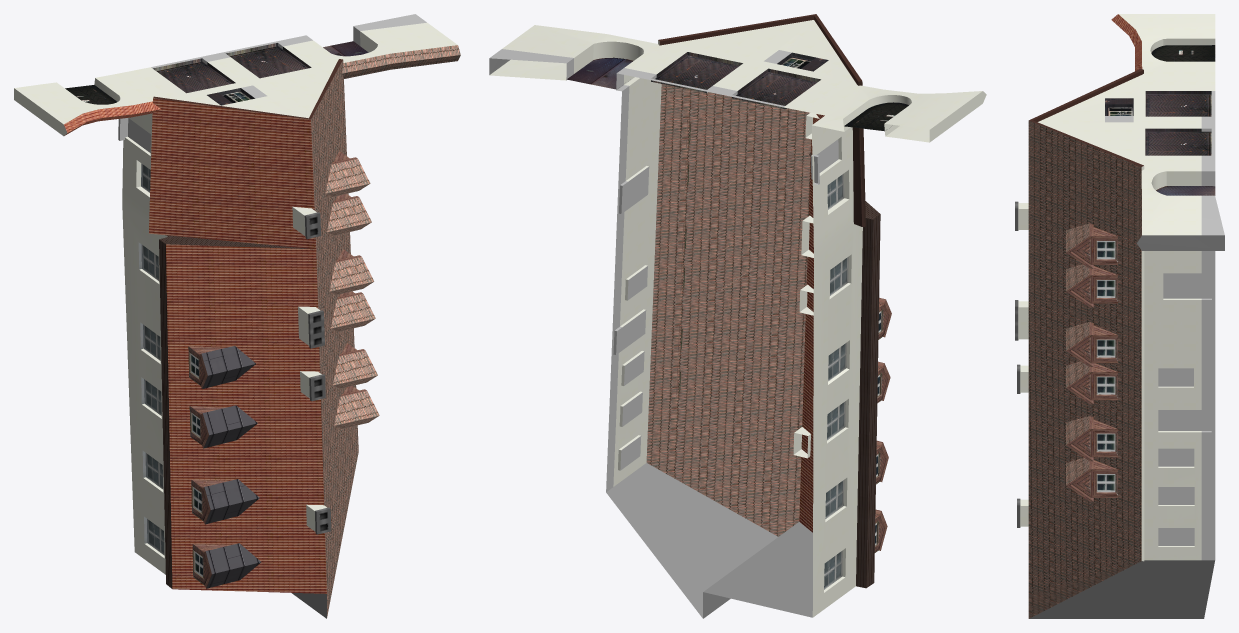
Rendered from Kiriku_plats_3.obj.
The picture shows the model from 3 angles, left to right: view 1: azimuth 30°, elevation 25°; view 2: azimuth 150°, elevation 25°; view 3: azimuth 270°, elevation 25°; orthographic projection. The views are drawn at different scales.
Visible parts, largest first — view 1: Kiriku_plats_3; view 2: Kiriku_plats_3; view 3: Kiriku_plats_3.
Part boxes in pixels (<box>): Kiriku_plats_3: <box>14,14,460,618</box>; Kiriku_plats_3: <box>489,14,986,618</box>; Kiriku_plats_3: <box>1015,14,1224,618</box>.
Size of the model in its own units: 21.71 by 26.22 by 9.95.
